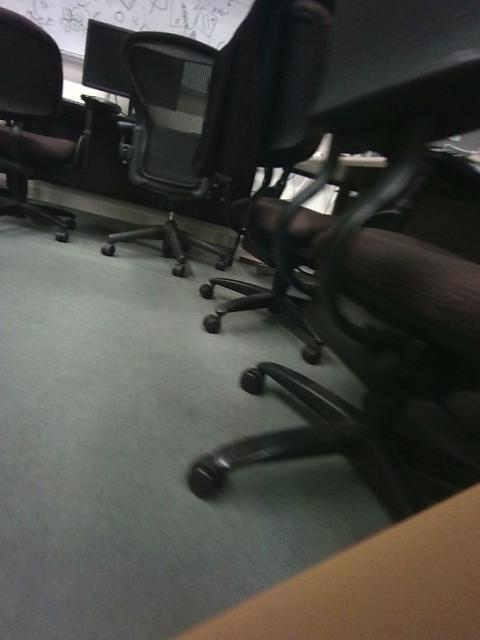block: (77, 326, 149, 373)
